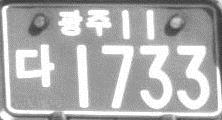1: (73, 42, 92, 110), (143, 7, 157, 42), (119, 7, 132, 42)
3: (137, 43, 173, 110), (175, 44, 211, 111)
7: (98, 42, 136, 111)
광주_O: (56, 8, 112, 37)
다: (12, 42, 55, 89)
